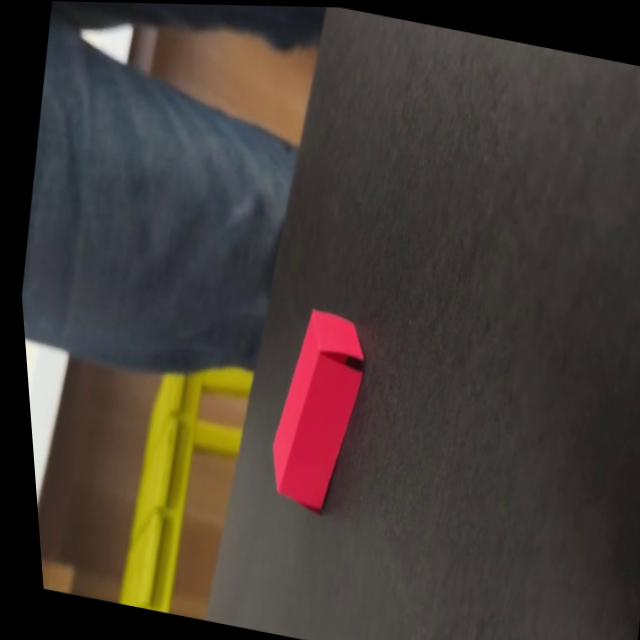red block: (250, 299, 384, 518)
